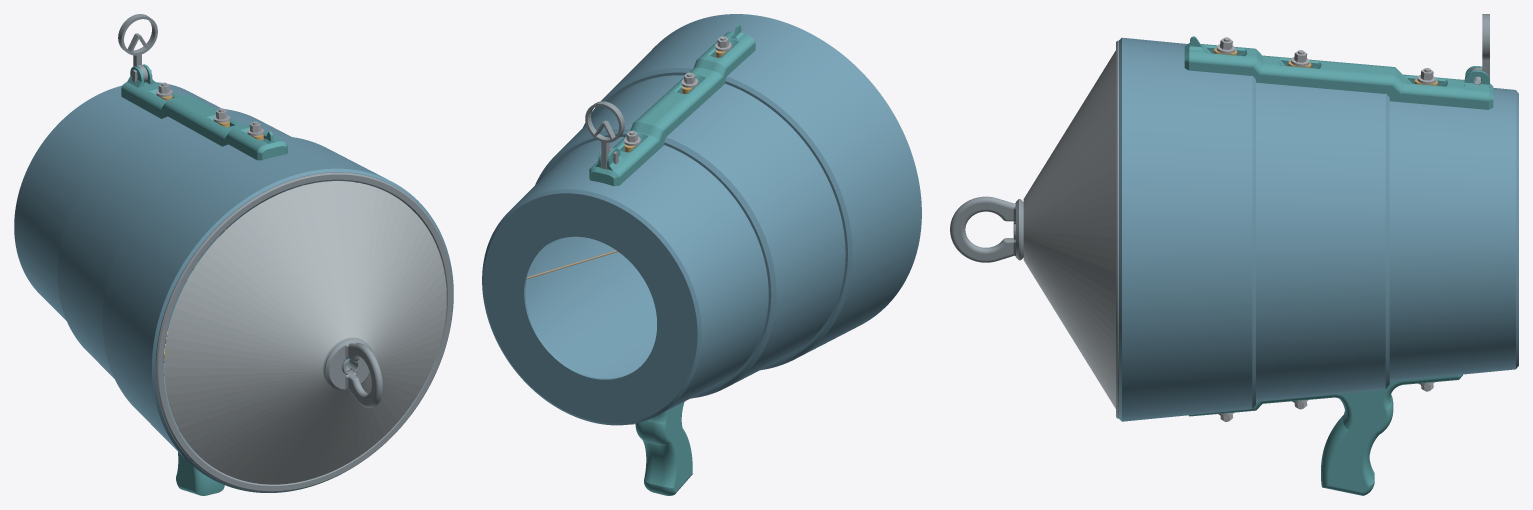
The model's file is recommended-pull-60mm-study.glb.
3 views of the same model, side by side, from view 1: azimuth 30°, elevation 25°; view 2: azimuth 150°, elevation 25°; view 3: azimuth 270°, elevation 25° (orthographic). The views are drawn at different scales.
Visible parts, largest first — view 1: film-study, reinforced-7, reinforced-8, reinforced-6, stock-10, stock-3, stock-5, stock-4, stock-2; view 2: reinforced-6, reinforced-8, reinforced-7, stock-3, stock-4, stock-2; view 3: reinforced-7, reinforced-8, reinforced-6, film-study, stock-3, stock-4, stock-5, stock-10.
Boxes of the visible parts, x1,y1,x2,y2 form: film-study: (164, 181, 446, 484); reinforced-7: (102, 136, 453, 492); reinforced-8: (57, 108, 362, 432); reinforced-6: (14, 82, 303, 375); stock-10: (155, 172, 453, 491); stock-3: (121, 64, 287, 160); stock-5: (324, 338, 382, 407); stock-4: (176, 452, 224, 495); stock-2: (118, 14, 157, 82); reinforced-6: (482, 137, 768, 425); reinforced-8: (534, 75, 845, 398); reinforced-7: (583, 14, 921, 370); stock-3: (589, 24, 755, 186); stock-4: (635, 402, 692, 495); stock-2: (585, 101, 624, 169); reinforced-7: (1119, 37, 1255, 421); reinforced-8: (1256, 82, 1389, 401); reinforced-6: (1389, 88, 1518, 381); film-study: (1023, 50, 1115, 408); stock-3: (1184, 36, 1493, 109); stock-4: (1188, 374, 1462, 495); stock-5: (950, 196, 1023, 262); stock-10: (1116, 40, 1118, 418).
Size of the model in its own units: 0.2496 by 0.341 by 0.3698.
